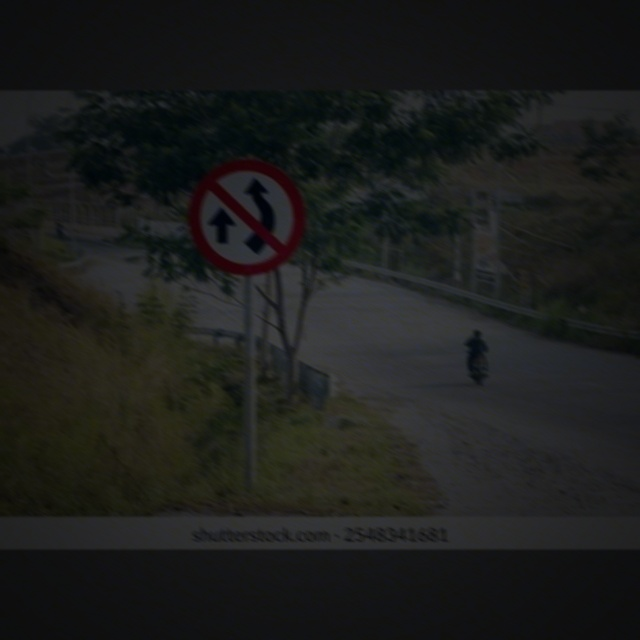Overtaking_Prohibited: (192, 157, 303, 274)
